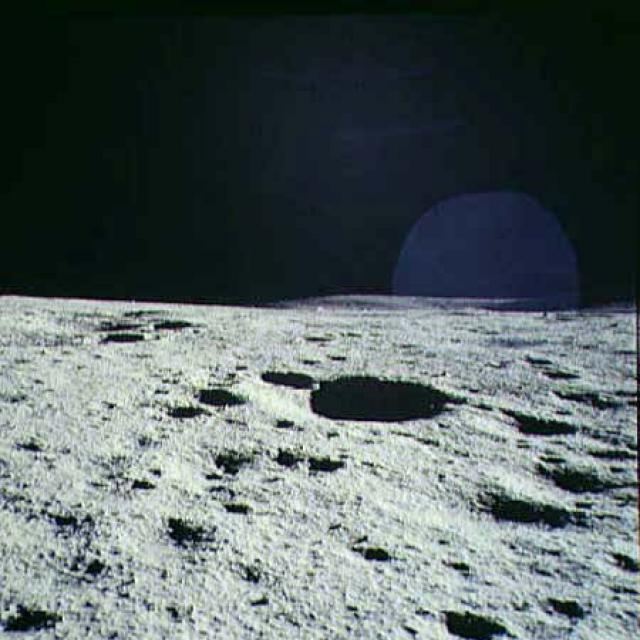crater: (374, 467, 577, 547), (296, 371, 497, 438), (100, 495, 209, 566), (245, 360, 334, 397), (187, 385, 255, 412)
